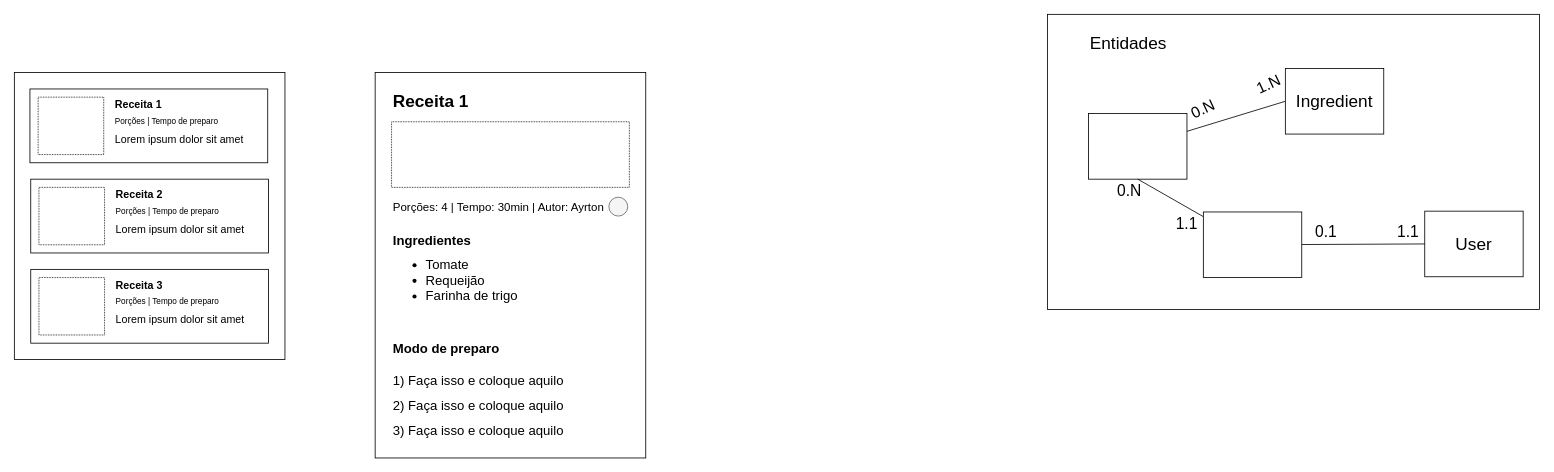
Some shapes in this 1554 by 472 pixel diagram are drawn without their labels. The centre of each missing label's shape, as x and y in pixels:
"Author" goes at pixel 1252 244.
"Recipe" goes at pixel 1137 146.
